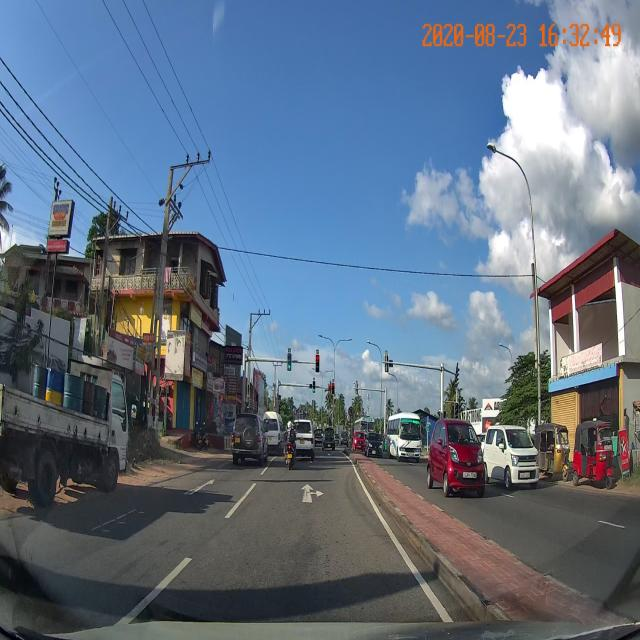forward_right: (228, 482, 383, 514)
